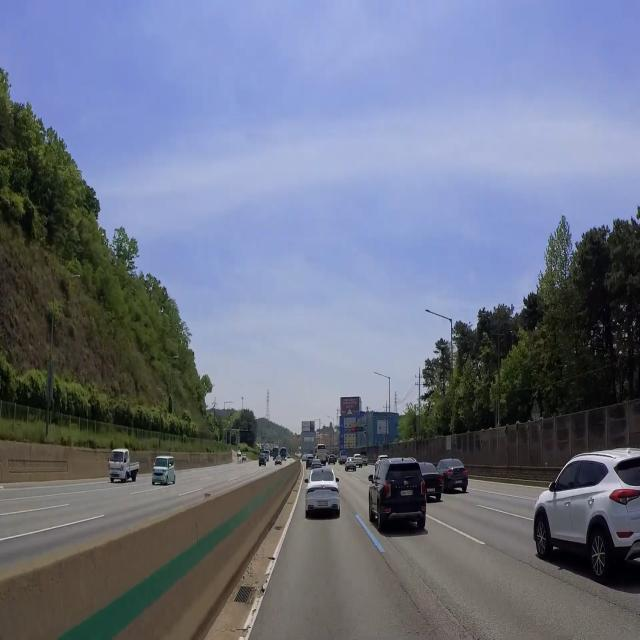car: (398, 484, 417, 500), (427, 483, 440, 499), (316, 498, 331, 510), (452, 477, 467, 489)
